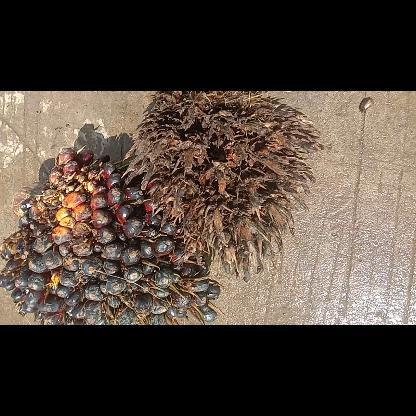Janjang kosong: (122, 90, 320, 280)
TBS mentah: (0, 146, 222, 324)
